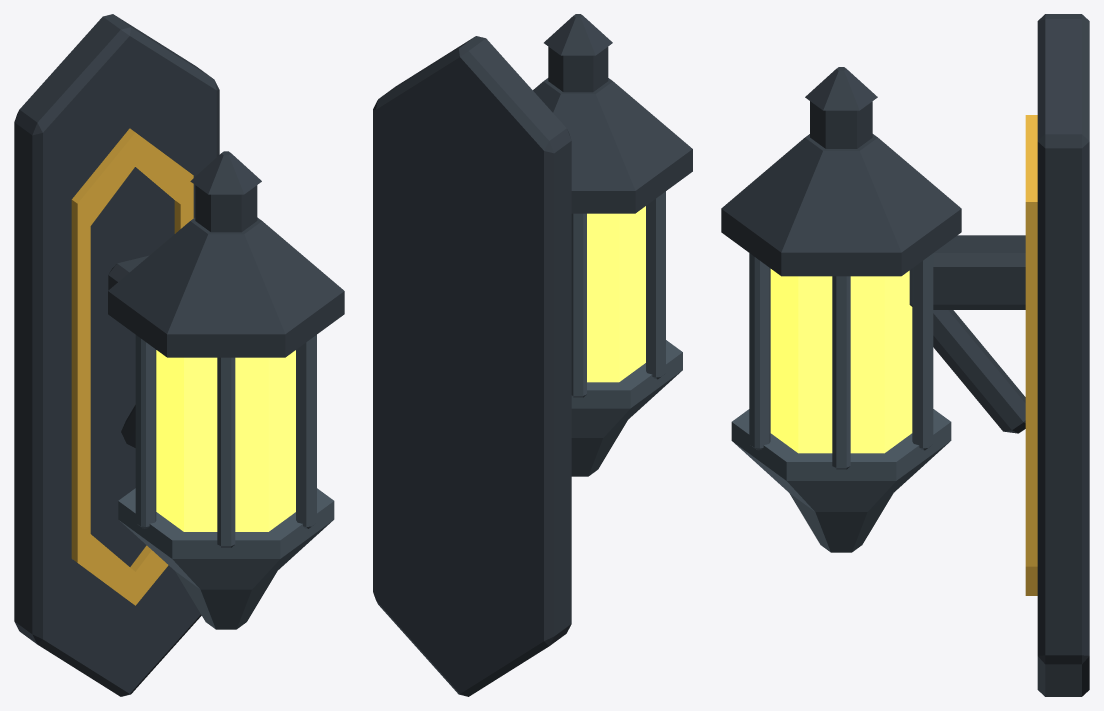
File: Gallery_WallLamp.fbx
3 renders of one model, left to right at view 1: azimuth 30°, elevation 25°; view 2: azimuth 150°, elevation 25°; view 3: azimuth 270°, elevation 25°, orthographic. The views are drawn at different scales.
Parts seen in each view (by area): view 1: FrameDark, Frame, Glow, Amber_Metal; view 2: FrameDark, Frame, Glow; view 3: FrameDark, Frame, Glow, Amber_Metal.
Part boxes in pixels (x1,y1,x2,y2): FrameDark: (14, 14, 344, 696); Frame: (118, 335, 334, 629); Glow: (156, 350, 295, 531); Amber_Metal: (71, 128, 193, 605); FrameDark: (373, 14, 692, 696); Frame: (571, 191, 682, 476); Glow: (587, 206, 645, 382); FrameDark: (721, 14, 1089, 696); Frame: (731, 253, 951, 552); Glow: (770, 269, 912, 453); Amber_Metal: (1025, 115, 1037, 595).
Bounding box in the file's own units: 0.84 × 2.86 × 1.41.
